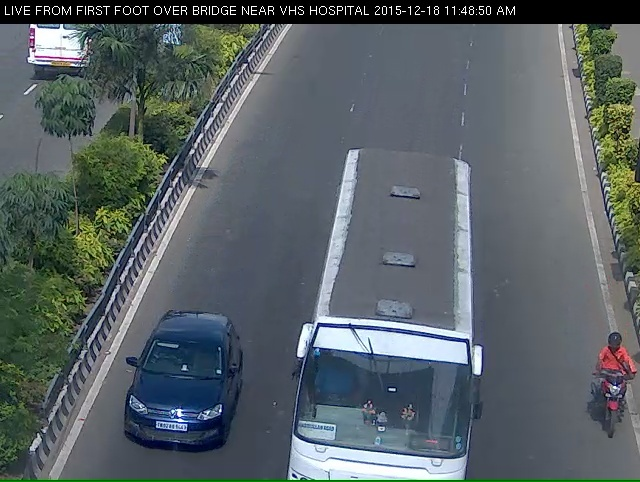Bus: (312, 153, 476, 480)
Car: (115, 337, 227, 472)
Person: (590, 343, 638, 458)
